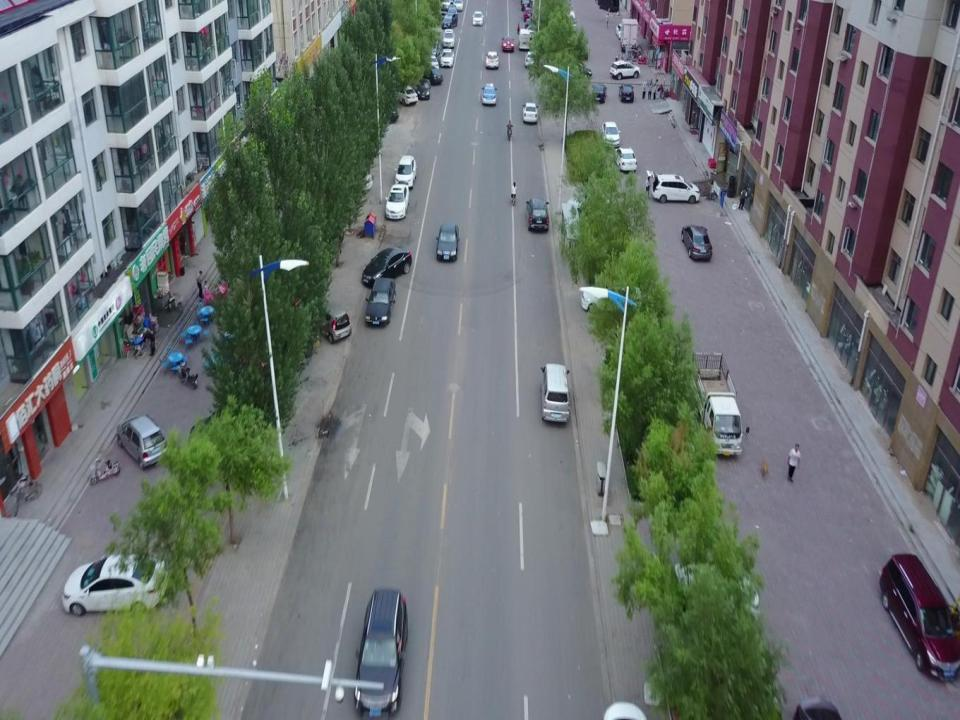car: (354, 588, 408, 717), (63, 554, 167, 616), (668, 561, 759, 626), (116, 414, 168, 470), (361, 247, 412, 288), (308, 300, 352, 343), (646, 170, 700, 205), (366, 278, 395, 326), (300, 222, 344, 250), (681, 225, 712, 260), (330, 171, 372, 196), (436, 223, 460, 263), (384, 184, 408, 220), (362, 102, 400, 123), (394, 154, 416, 190), (525, 198, 549, 230), (613, 146, 637, 173), (390, 84, 418, 105), (610, 60, 639, 79), (564, 62, 592, 79), (418, 66, 443, 85), (602, 121, 620, 147), (522, 102, 539, 123), (481, 83, 497, 104), (591, 84, 607, 104), (618, 84, 634, 103), (417, 78, 430, 100), (425, 55, 439, 74), (440, 48, 454, 67), (441, 13, 458, 28), (426, 40, 441, 56), (486, 51, 499, 69), (442, 29, 454, 47), (501, 36, 515, 51), (525, 51, 537, 68), (472, 11, 484, 26), (526, 26, 541, 38), (616, 24, 628, 38), (524, 18, 536, 31), (522, 8, 533, 22), (520, 0, 532, 11), (448, 5, 458, 18), (452, 0, 463, 10), (439, 0, 450, 10)
truck: (687, 352, 749, 456), (621, 19, 638, 51)
van: (877, 554, 960, 682), (540, 362, 570, 423), (597, 0, 620, 12), (563, 11, 576, 32), (518, 28, 530, 50)
